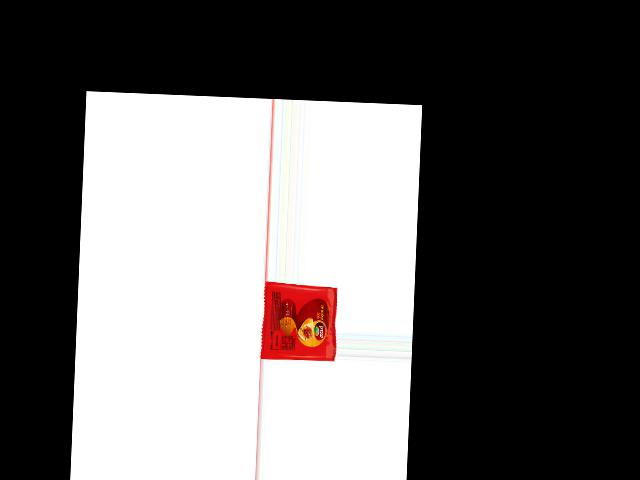cheese: (259, 284, 337, 362)
